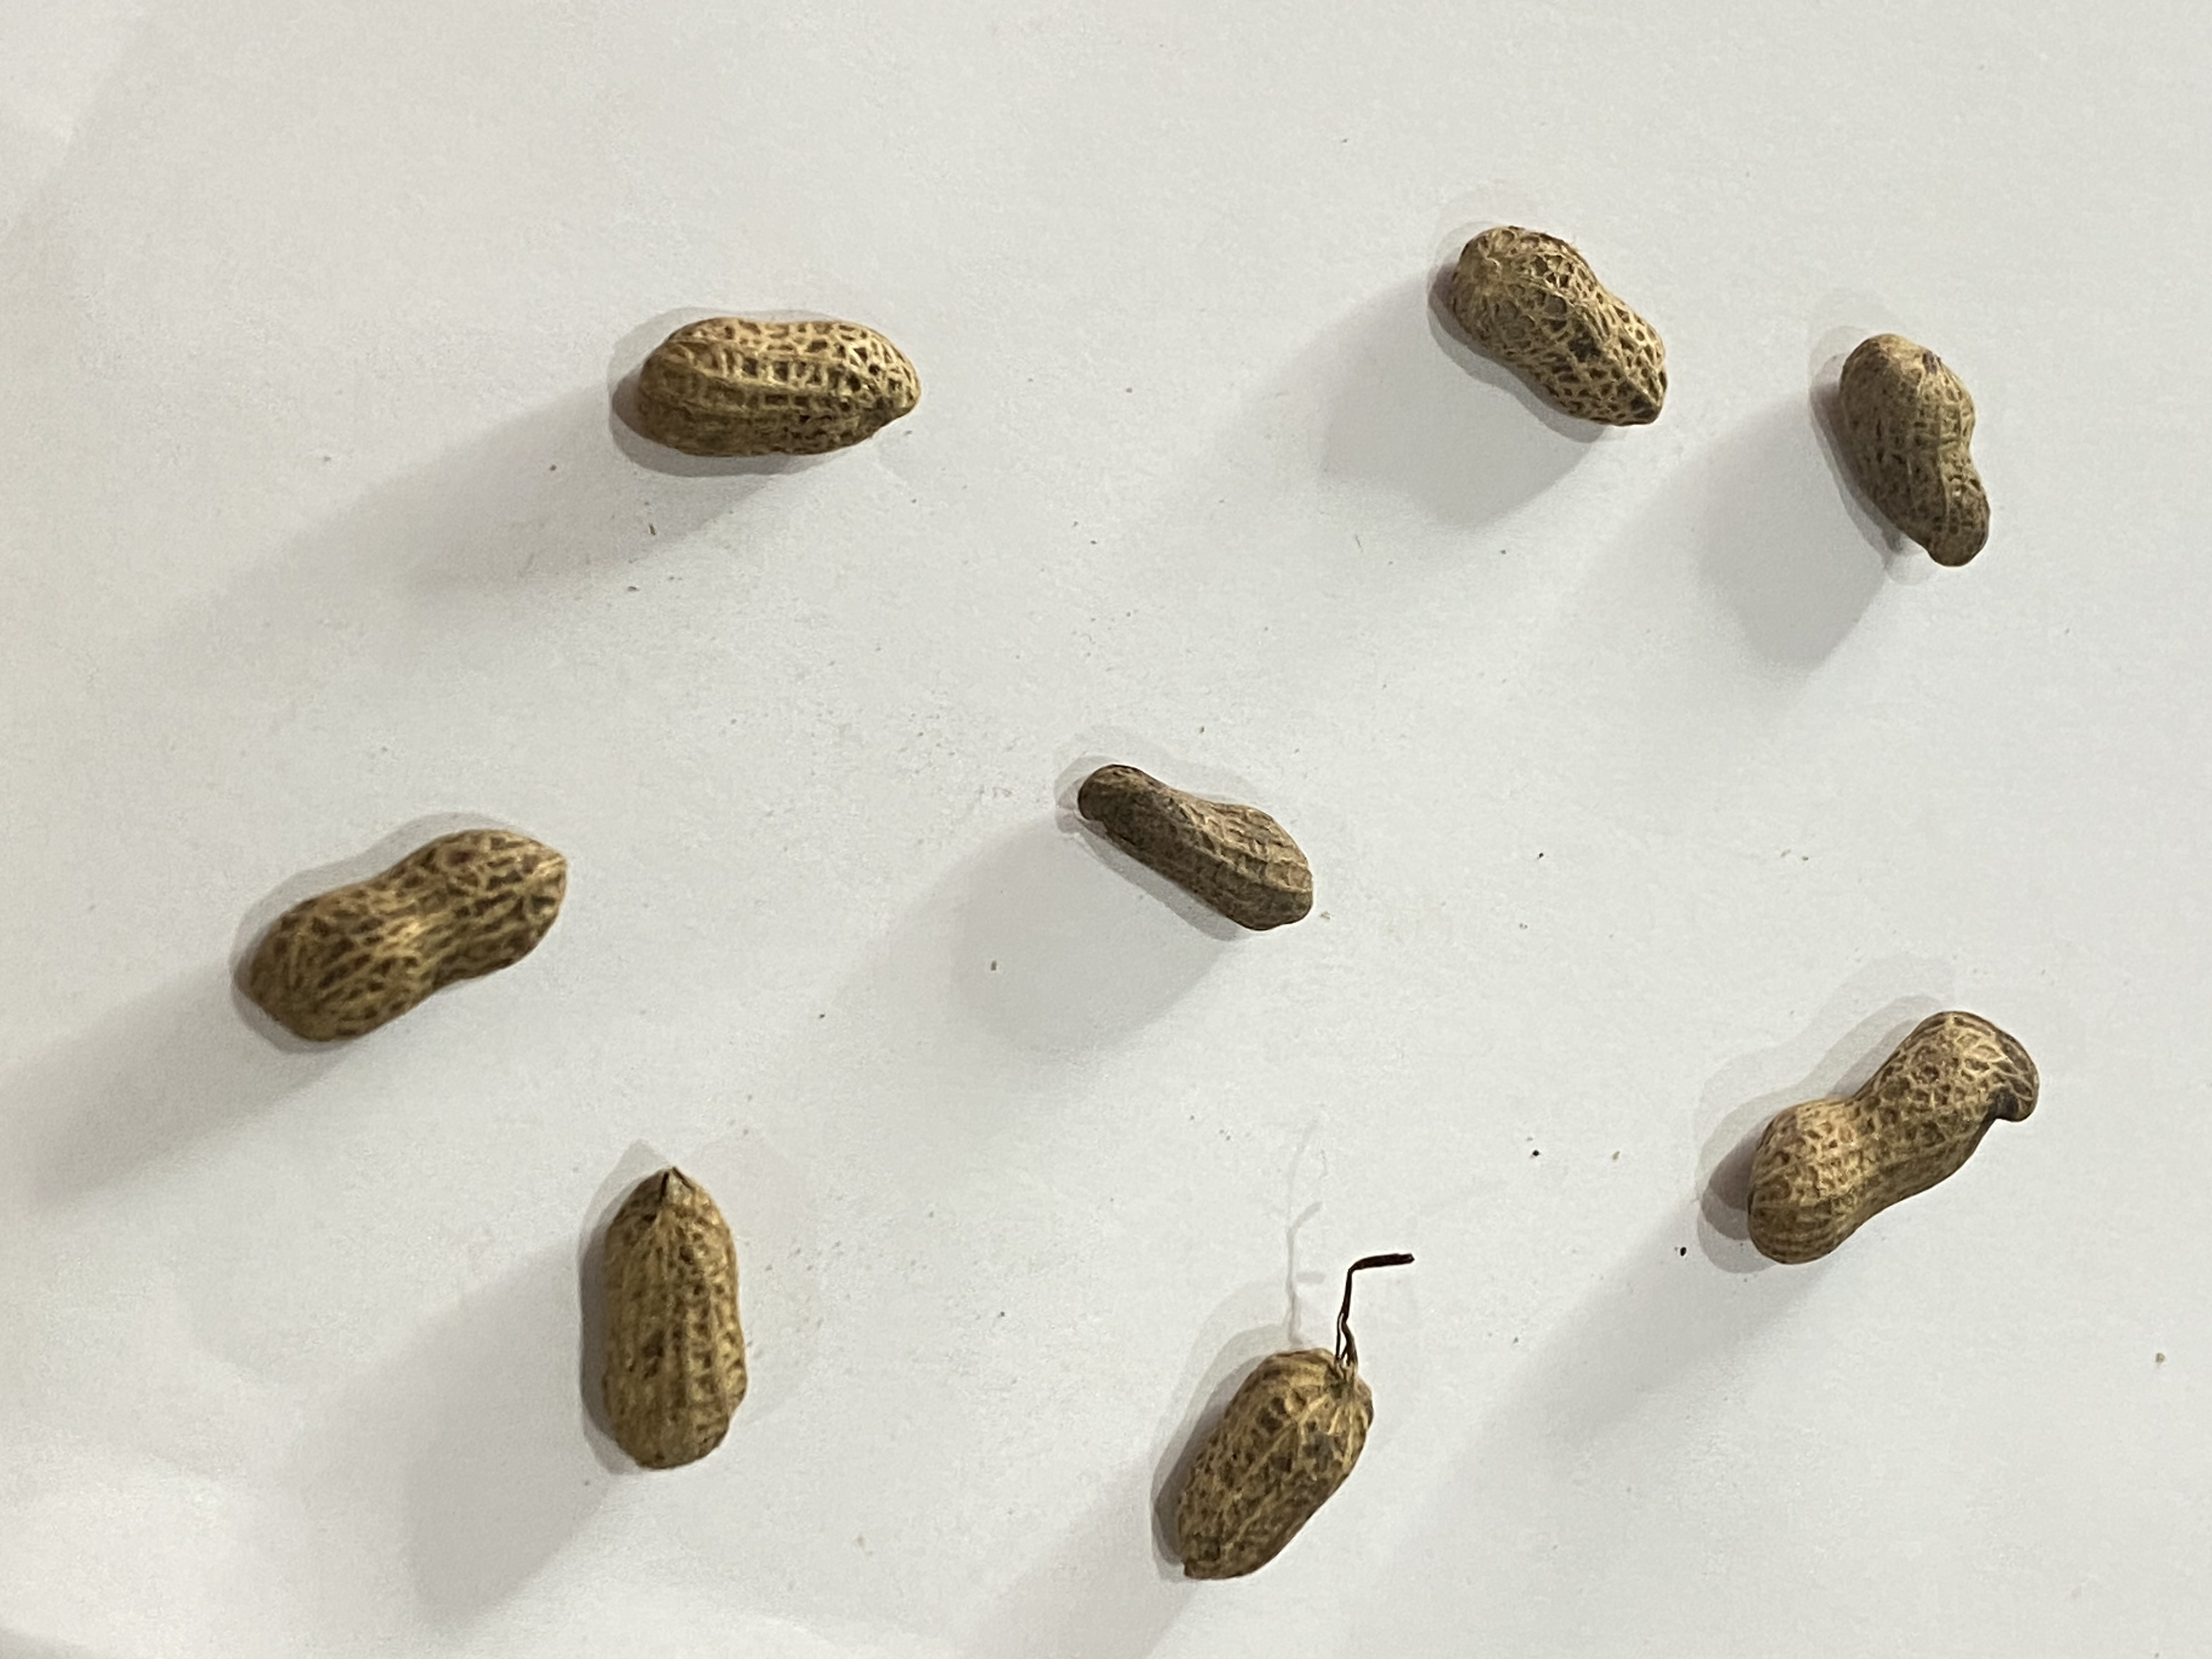kacang1: (1813, 282, 2017, 589)
kacang2: (1716, 929, 2120, 1290), (1136, 1291, 1413, 1638), (190, 805, 582, 1039), (601, 256, 961, 479), (1400, 211, 1693, 458), (570, 1131, 763, 1495), (1040, 742, 1331, 960)
